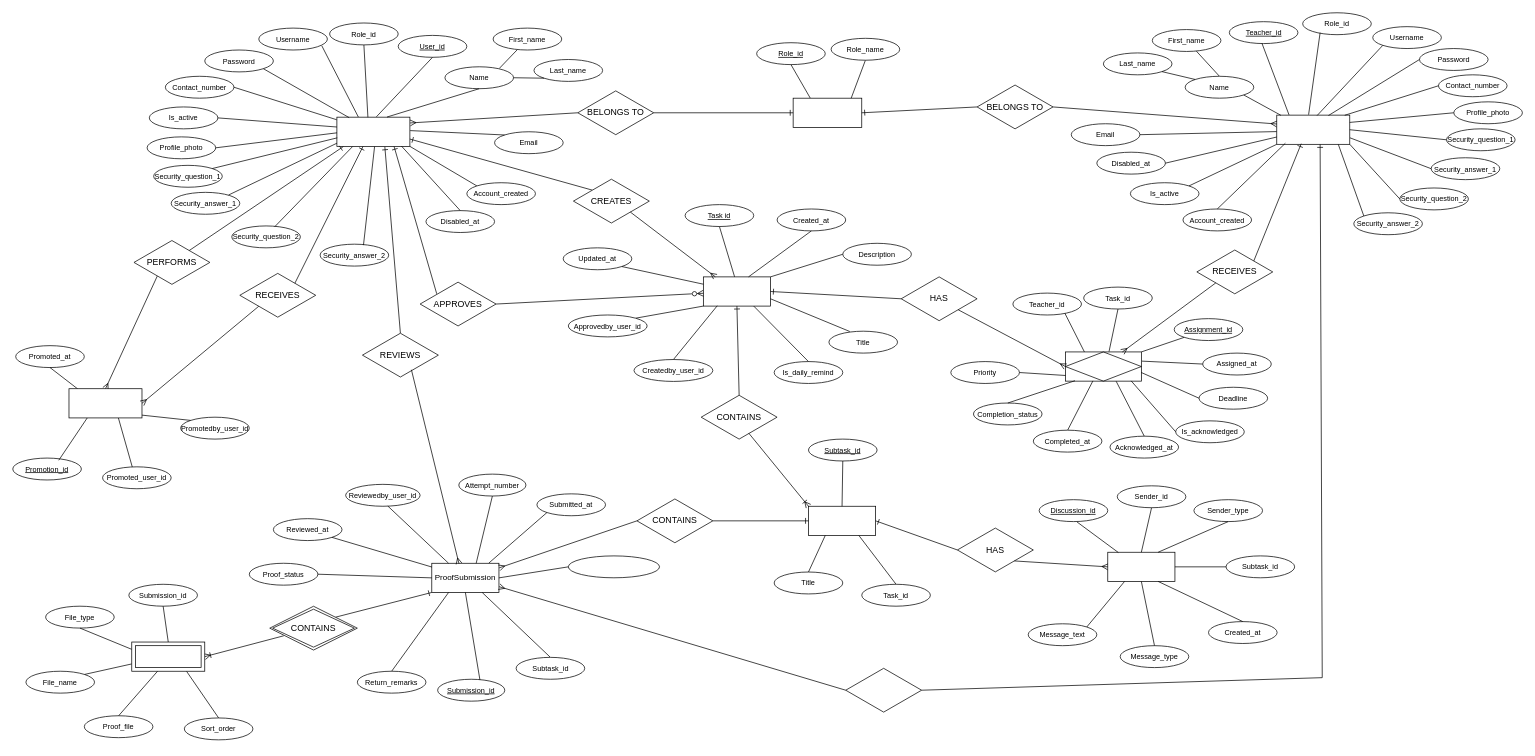
Some shapes in this 1535 by 756 pixel diagram are drawn without their labels. The shapes that lost their labels are listed below. From the top down, each one's centre as x and y in pixels, then its label:
(x=373, y=131): User
(x=827, y=112): Roles
(x=1313, y=129): Teacher
(x=737, y=291): Task
(x=1103, y=366): TaskAssignment
(x=105, y=403): Promotion
(x=842, y=520): Subtask
(x=614, y=566): Submittedby_teacher_id
(x=1141, y=566): TaskDiscussion
(x=168, y=656): ProofAttachment
(x=883, y=690): SUBMITS
